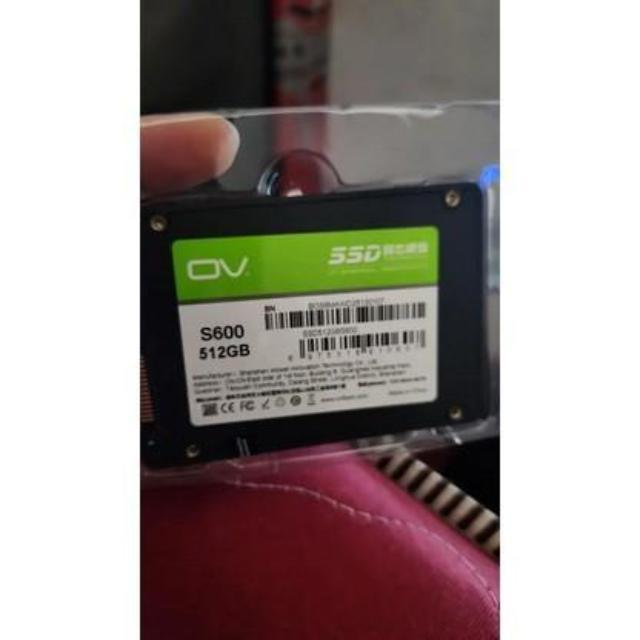DISK: (132, 178, 500, 470)
